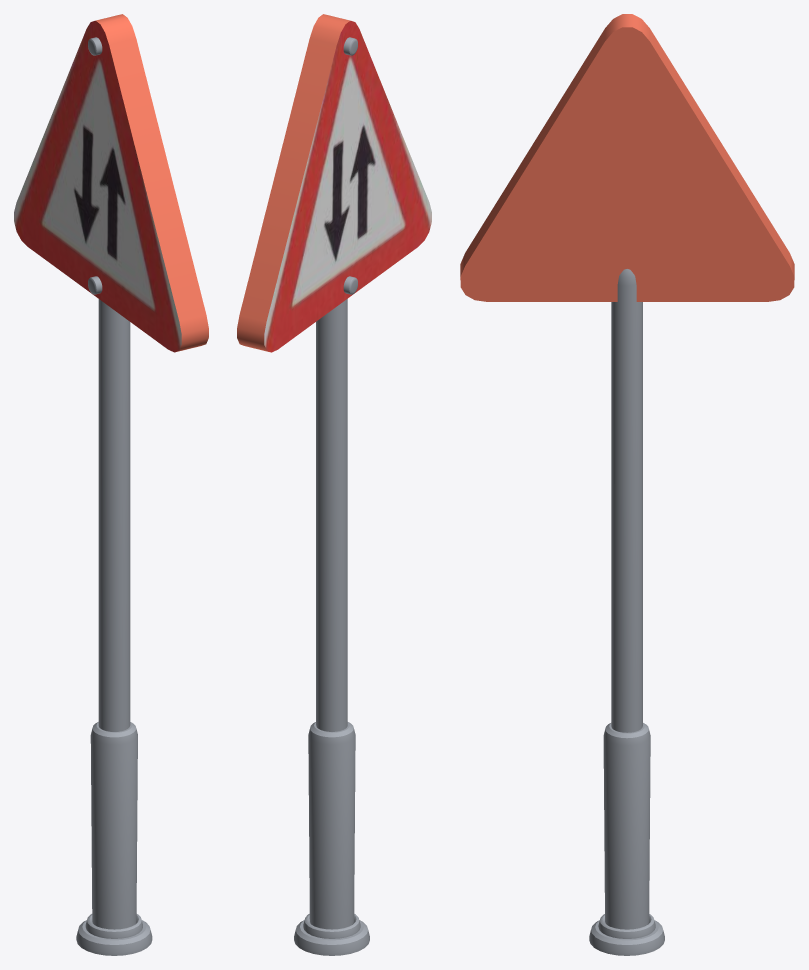
The picture shows the model from 3 angles, left to right: view 1: azimuth 30°, elevation 25°; view 2: azimuth 150°, elevation 25°; view 3: azimuth 270°, elevation 25°; orthographic projection.
Parts seen in each view (by area): view 1: sign_sharp_bend_to_the_left, sign_crossroad_pillar_01; view 2: sign_sharp_bend_to_the_left, sign_crossroad_pillar_01; view 3: sign_sharp_bend_to_the_left, sign_crossroad_pillar_01.
Boxes of the visible parts, x1,y1,x2,y2 form: sign_sharp_bend_to_the_left: (14,14,208,352); sign_crossroad_pillar_01: (76,299,152,955); sign_sharp_bend_to_the_left: (237,14,431,352); sign_crossroad_pillar_01: (294,299,369,955); sign_sharp_bend_to_the_left: (460,14,794,301); sign_crossroad_pillar_01: (589,269,664,955).
Size of the model in its own units: 20 by 267 by 88.17.
